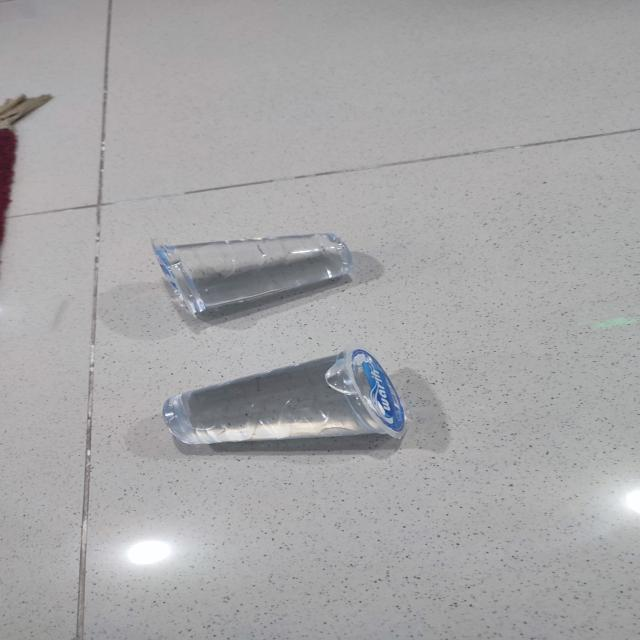air gelas: (155, 345, 407, 452), (143, 226, 369, 324)
